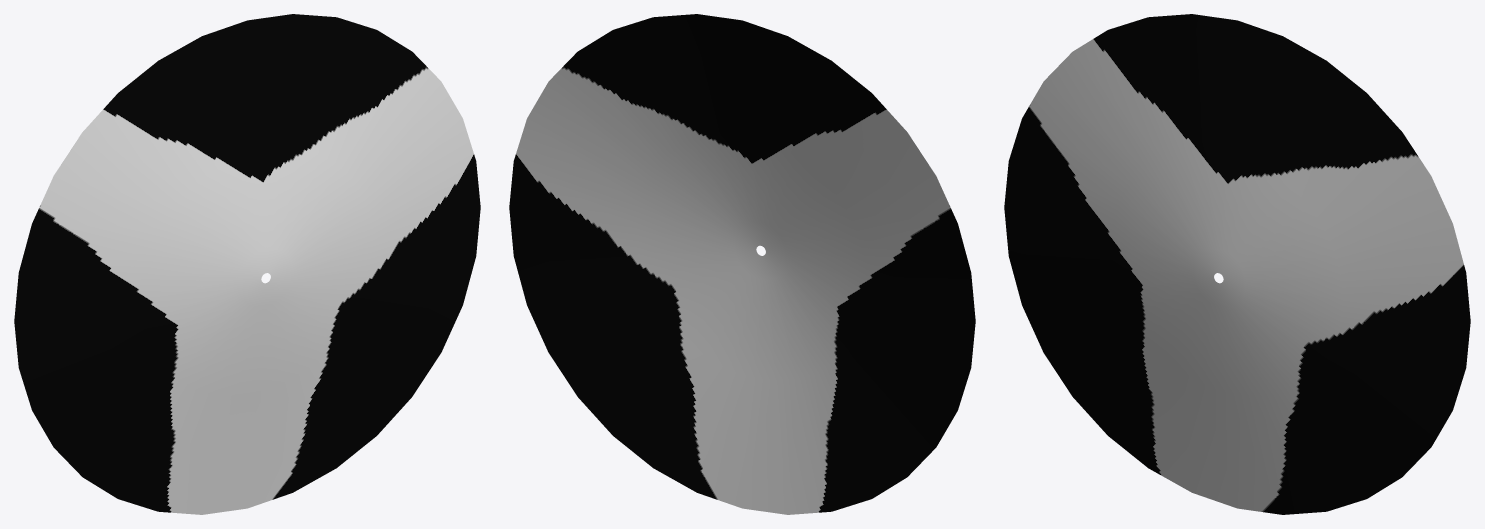
File: muzzle_flash.fbx
The picture shows the model from 3 angles, left to right: view 1: azimuth 30°, elevation 25°; view 2: azimuth 150°, elevation 25°; view 3: azimuth 330°, elevation 25°; orthographic projection.
Parts seen in each view (by area): view 1: Muzzle Flash; view 2: Muzzle Flash; view 3: Muzzle Flash.
Part boxes in pixels (x1,y1,x2,y2): Muzzle Flash: (14,14,480,514); Muzzle Flash: (509,14,975,514); Muzzle Flash: (1004,14,1470,514).
Bounding box in the file's own units: 718 × 718 × 49.74.
